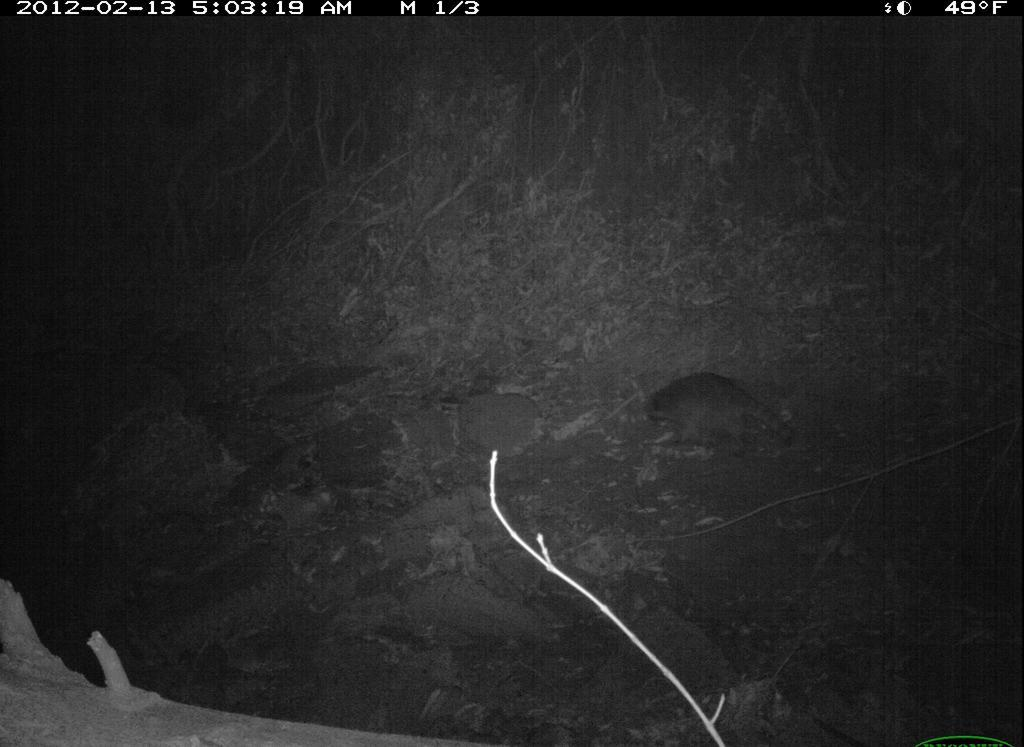raccoon: (638, 365, 801, 464)
